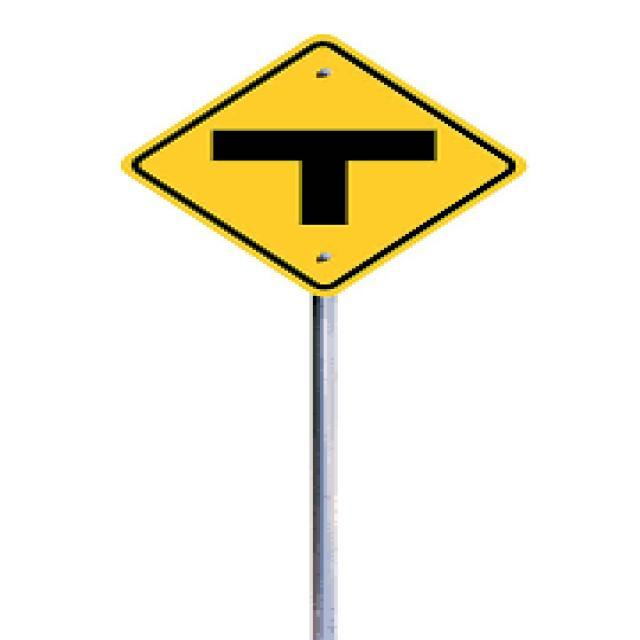t intersection: (119, 32, 531, 294)
